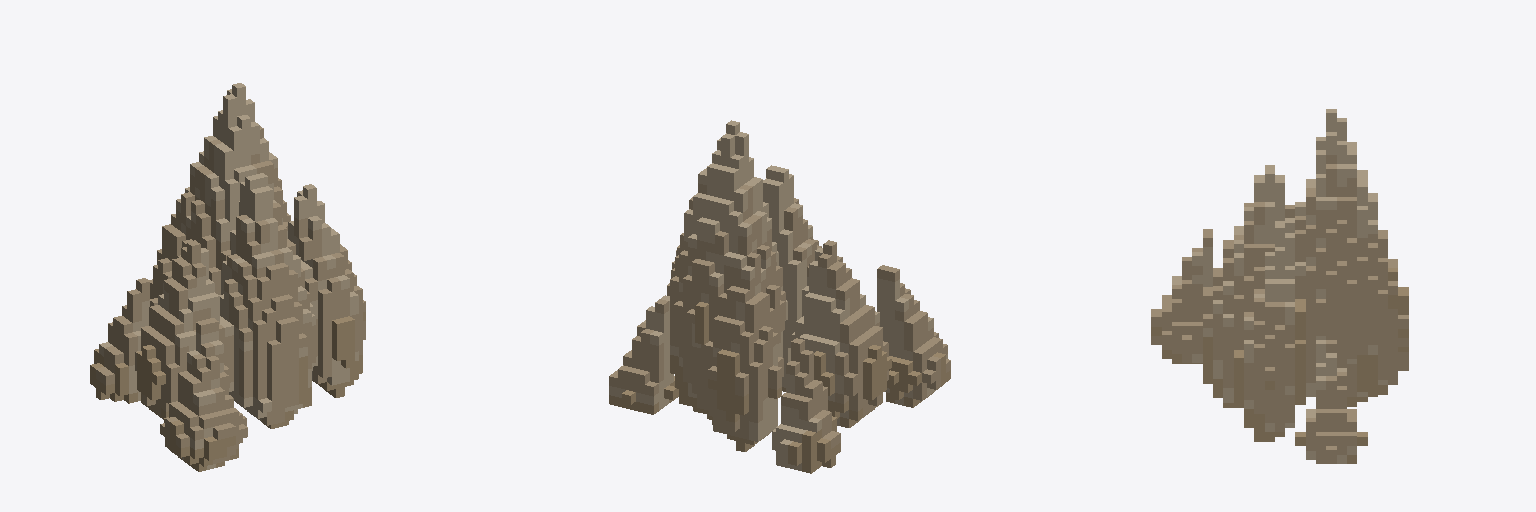
3 renders of one model, left to right at view 1: azimuth 30°, elevation 25°; view 2: azimuth 150°, elevation 25°; view 3: azimuth 270°, elevation 25°, orthographic.
Parts seen in each view (by area): view 1: Voxelized_rock3; view 2: Voxelized_rock3; view 3: Voxelized_rock3.
Part boxes in pixels (x1,y1,x2,y2): Voxelized_rock3: (90, 83, 365, 471); Voxelized_rock3: (609, 120, 950, 473); Voxelized_rock3: (1151, 109, 1408, 463).
Size of the model in its own units: 29 by 32 by 25.
1 materials, 1 textured.